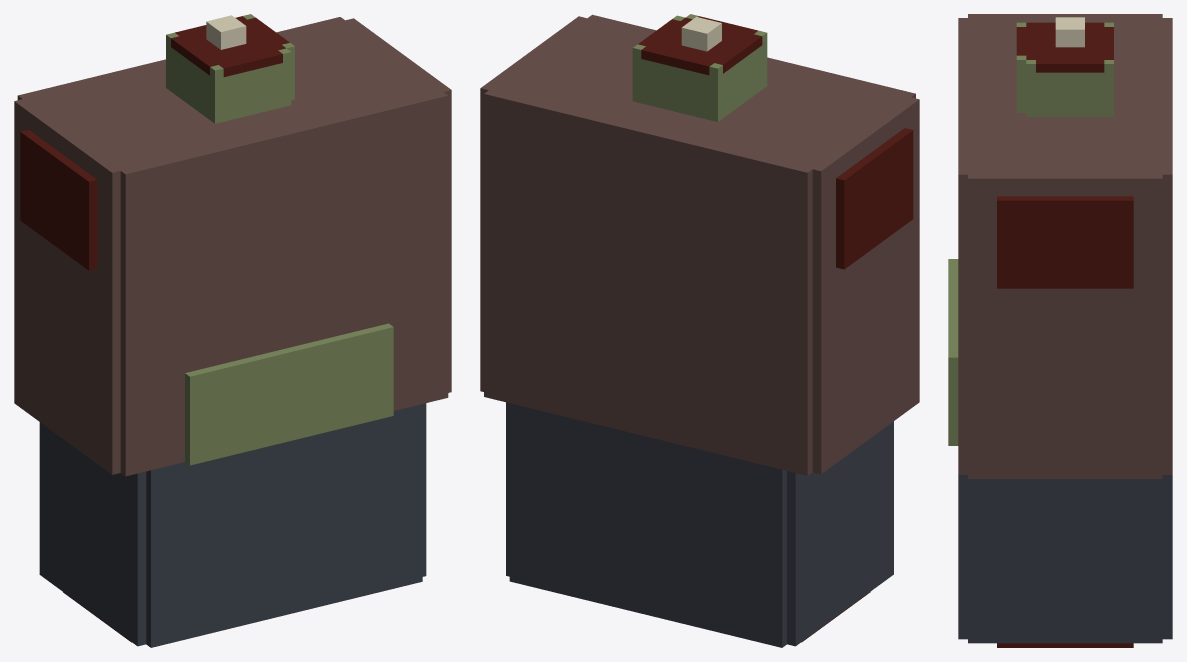
The model's file is shambler_torso.glb.
3 views of the same model, side by side, from view 1: azimuth 30°, elevation 25°; view 2: azimuth 150°, elevation 25°; view 3: azimuth 270°, elevation 25° (orthographic).
Visible parts, largest first — view 1: part:torso; view 2: part:torso; view 3: part:torso.
Part boxes in pixels (x1,y1,x2,y2): part:torso: [14, 14, 451, 647]; part:torso: [480, 14, 919, 647]; part:torso: [948, 14, 1172, 647].
Size of the model in its own units: 0.42 by 0.63 by 0.23.
